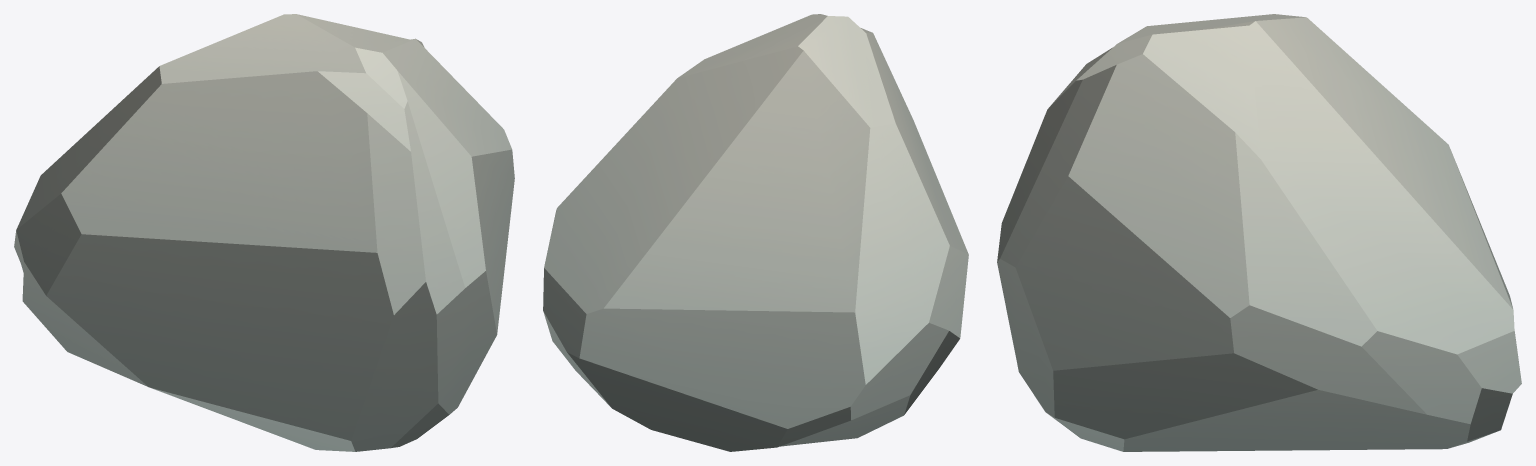
File: Stone.fbx
The picture shows the model from 3 angles, left to right: view 1: azimuth 30°, elevation 25°; view 2: azimuth 150°, elevation 25°; view 3: azimuth 270°, elevation 25°; orthographic projection. The views are drawn at different scales.
Parts seen in each view (by area): view 1: Sphere; view 2: Sphere; view 3: Sphere.
Boxes of the visible parts, x1=… form: Sphere: x1=14, y1=14, x2=514, y2=451; Sphere: x1=543, y1=14, x2=968, y2=451; Sphere: x1=997, y1=14, x2=1521, y2=451.
Size of the model in its own units: 96.15 by 81.3 by 94.52.
